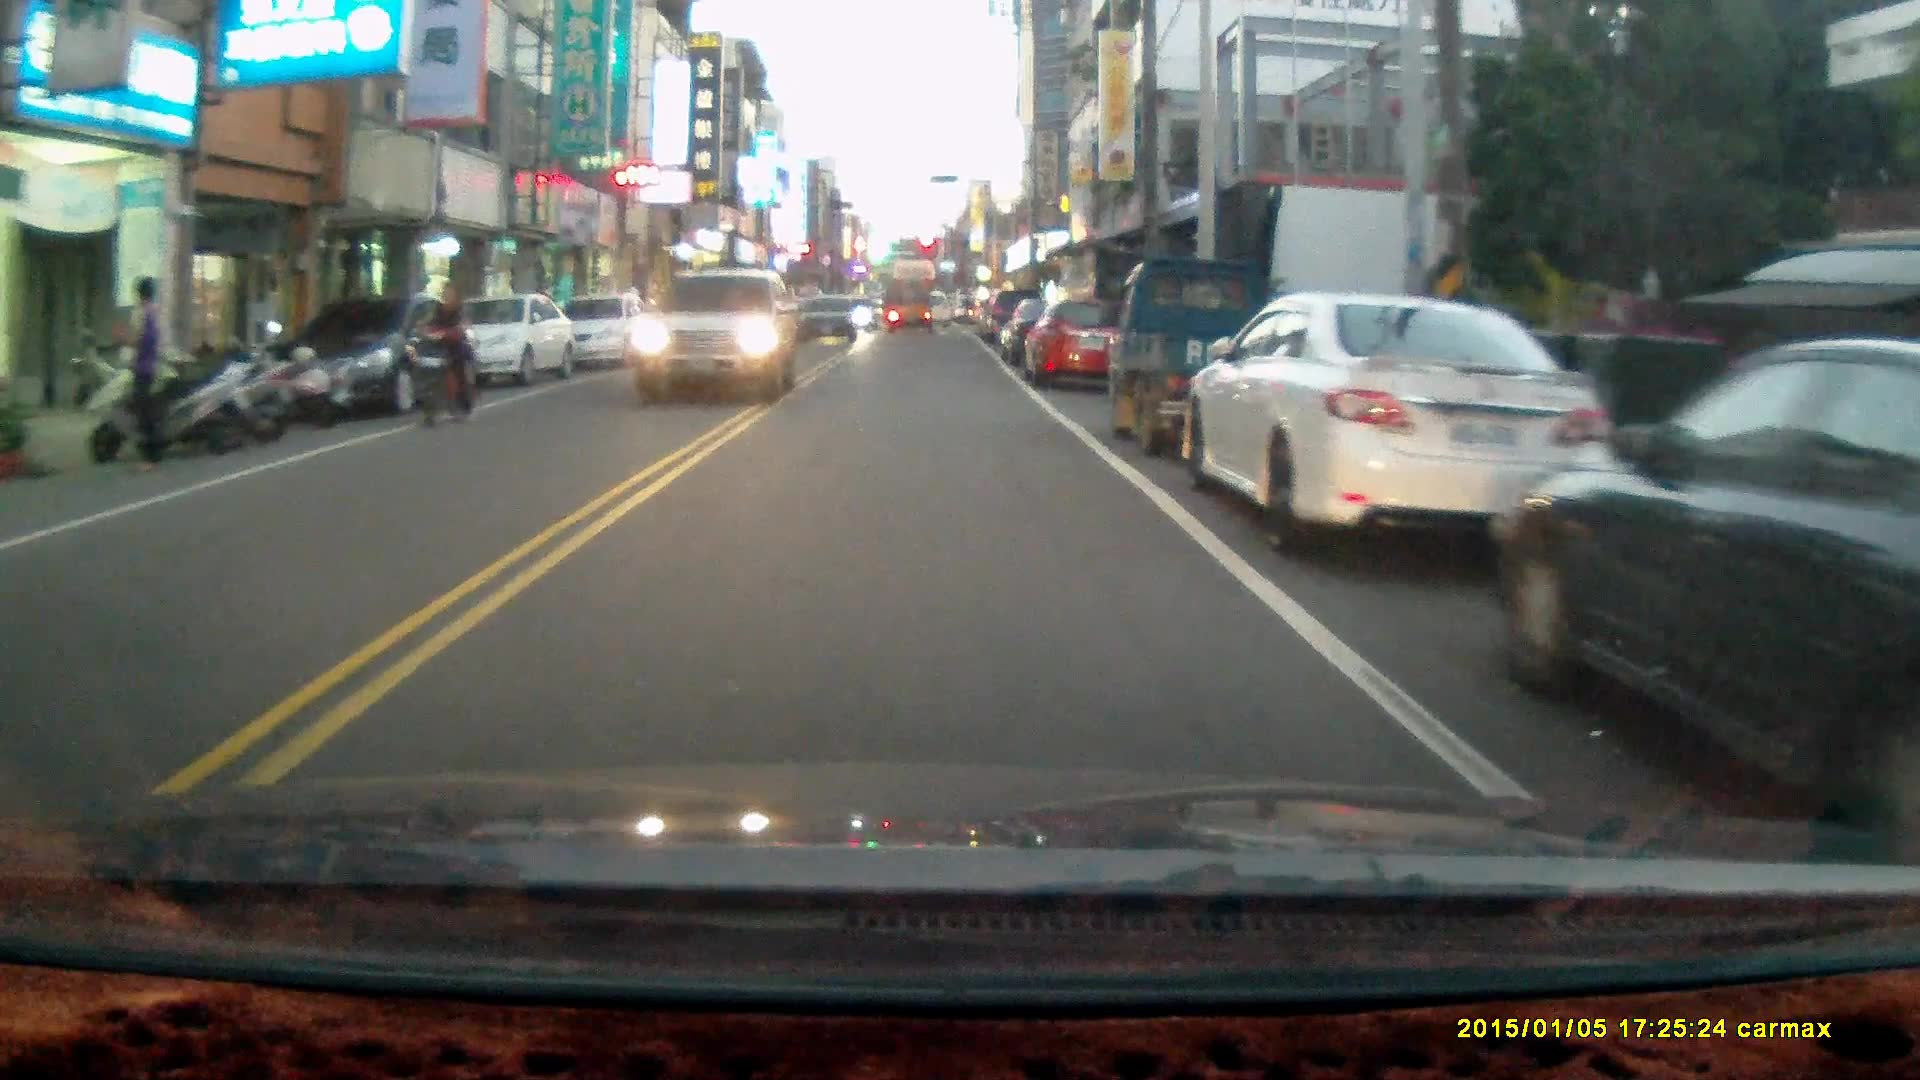pedestrian: (104, 273, 162, 477)
rider: (411, 276, 476, 426)
vehicle: (1502, 338, 1920, 856), (1183, 293, 1617, 557), (1107, 252, 1310, 462), (263, 285, 473, 414), (627, 269, 799, 405), (1027, 294, 1121, 392), (554, 297, 656, 372), (795, 295, 861, 347), (884, 277, 937, 334)
